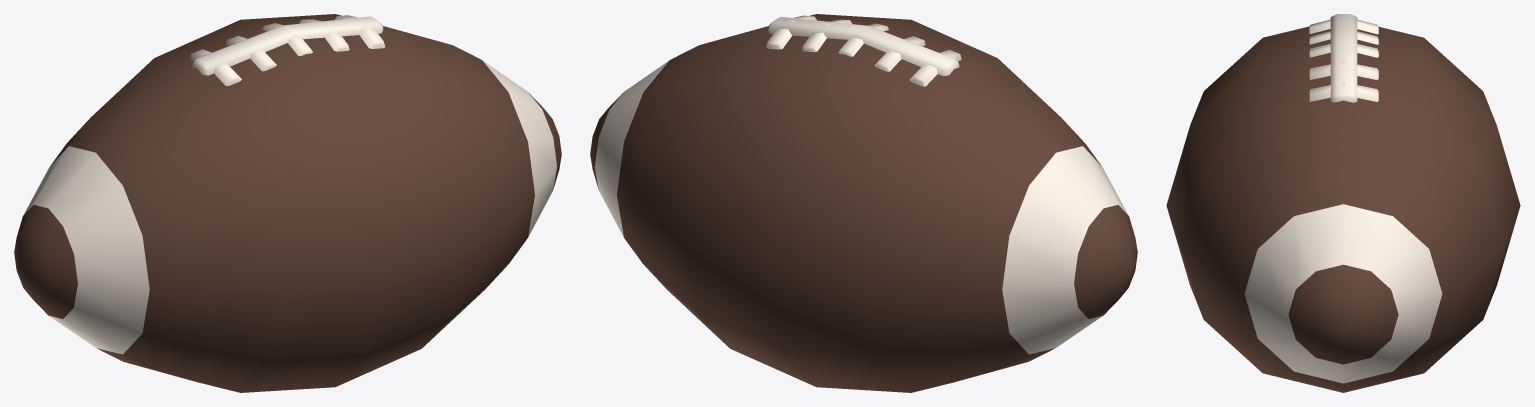
Rendered from RugbyBall_01.fbx.
The picture shows the model from 3 angles, left to right: view 1: azimuth 30°, elevation 25°; view 2: azimuth 150°, elevation 25°; view 3: azimuth 270°, elevation 25°; orthographic projection. The views are drawn at different scales.
Parts seen in each view (by area): view 1: RugbyBall_01; view 2: RugbyBall_01; view 3: RugbyBall_01.
Part boxes in pixels (x1,y1,x2,y2): RugbyBall_01: (14, 14, 561, 392); RugbyBall_01: (590, 14, 1137, 392); RugbyBall_01: (1166, 14, 1520, 392).
Bounding box in the file's own units: 0.2886 × 0.1778 × 0.1762.
